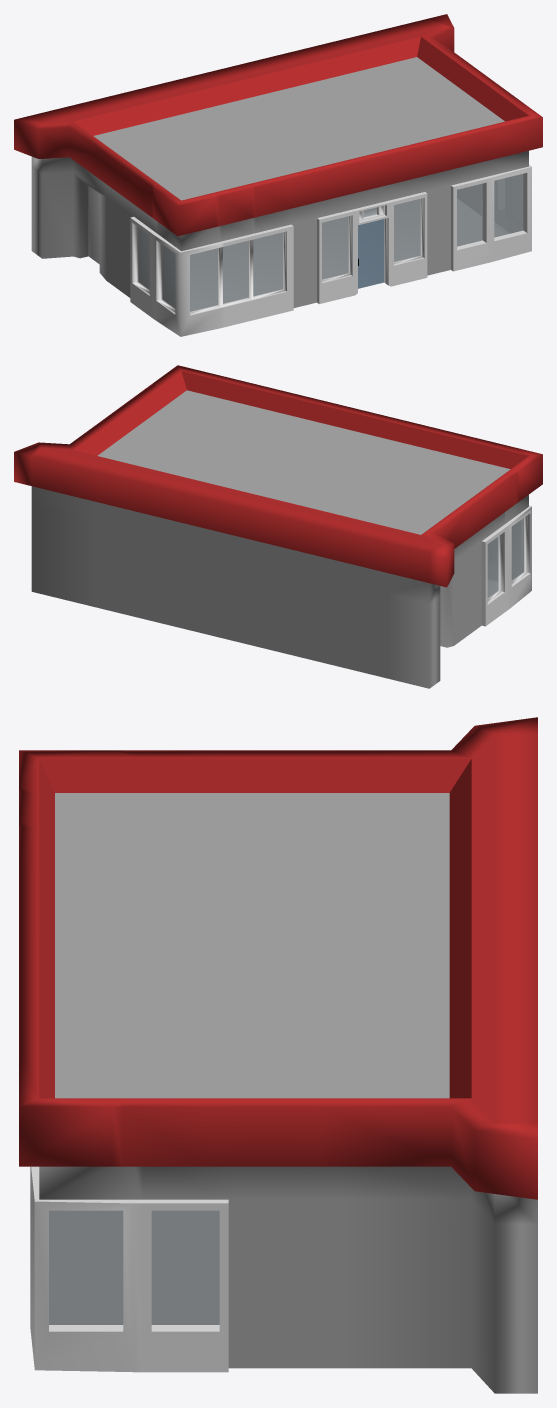
The model's file is Paystation_Building.fbx.
3 renders of one model, top to bottom at view 1: azimuth 30°, elevation 25°; view 2: azimuth 150°, elevation 25°; view 3: azimuth 270°, elevation 25°, orthographic. The views are drawn at different scales.
Visible parts, largest first — view 1: polySurface5; view 2: polySurface5; view 3: polySurface5.
Boxes of the visible parts, left/top/right/bottom form: polySurface5: left=14, top=14, right=542, bottom=336; polySurface5: left=14, top=365, right=542, bottom=688; polySurface5: left=19, top=717, right=537, bottom=1393.
Bounding box in the file's own units: 1787 × 534 × 928.
